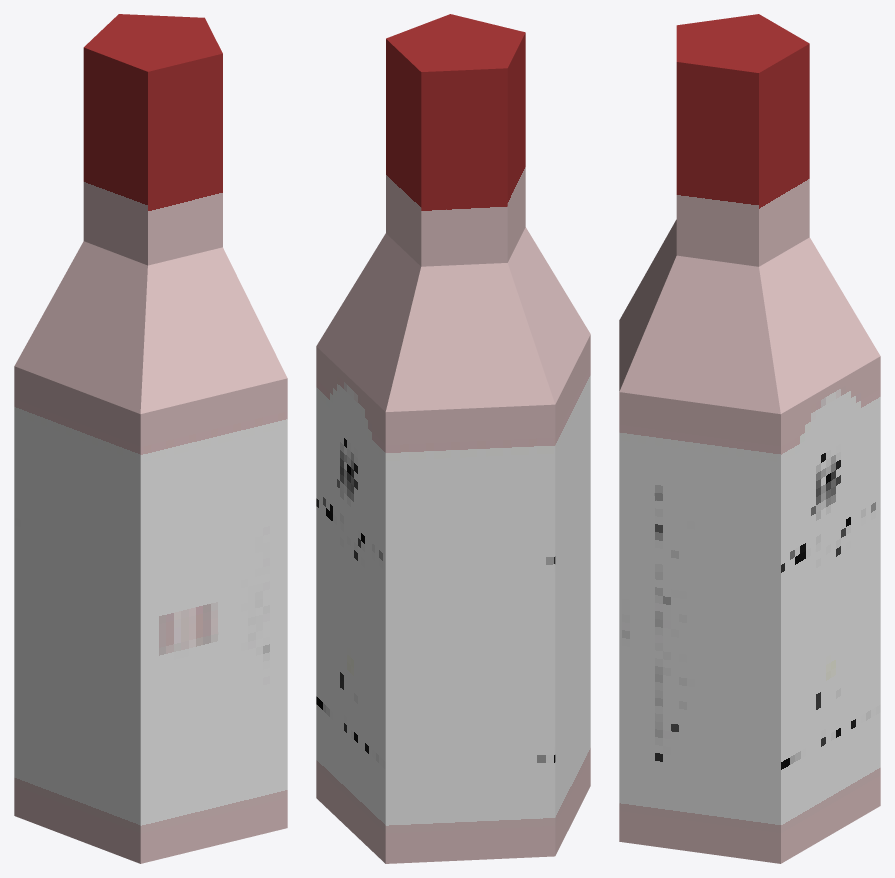
Rendered from clubbottle.glb.
3 views of the same model, side by side, from view 1: azimuth 30°, elevation 25°; view 2: azimuth 150°, elevation 25°; view 3: azimuth 270°, elevation 25° (orthographic).
Visible parts, largest first — view 1: Cylinder.002; view 2: Cylinder.002; view 3: Cylinder.002.
Part boxes in pixels (x1,y1,x2,y2): Cylinder.002: (14,14,287,863); Cylinder.002: (316,14,590,863); Cylinder.002: (619,14,880,863).
Size of the model in its own units: 0.5454 by 1.67 by 0.5187.
1 material, 1 textured.
